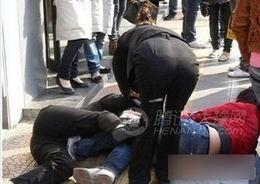Fall-Detected: (47, 83, 260, 176)
